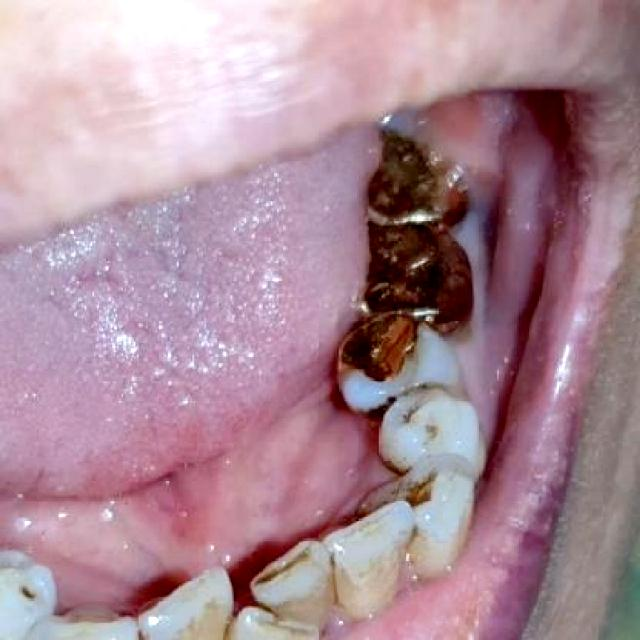Plaque: (452, 171, 494, 263), (398, 398, 429, 430), (16, 581, 46, 605), (330, 603, 352, 633), (401, 561, 417, 587)
